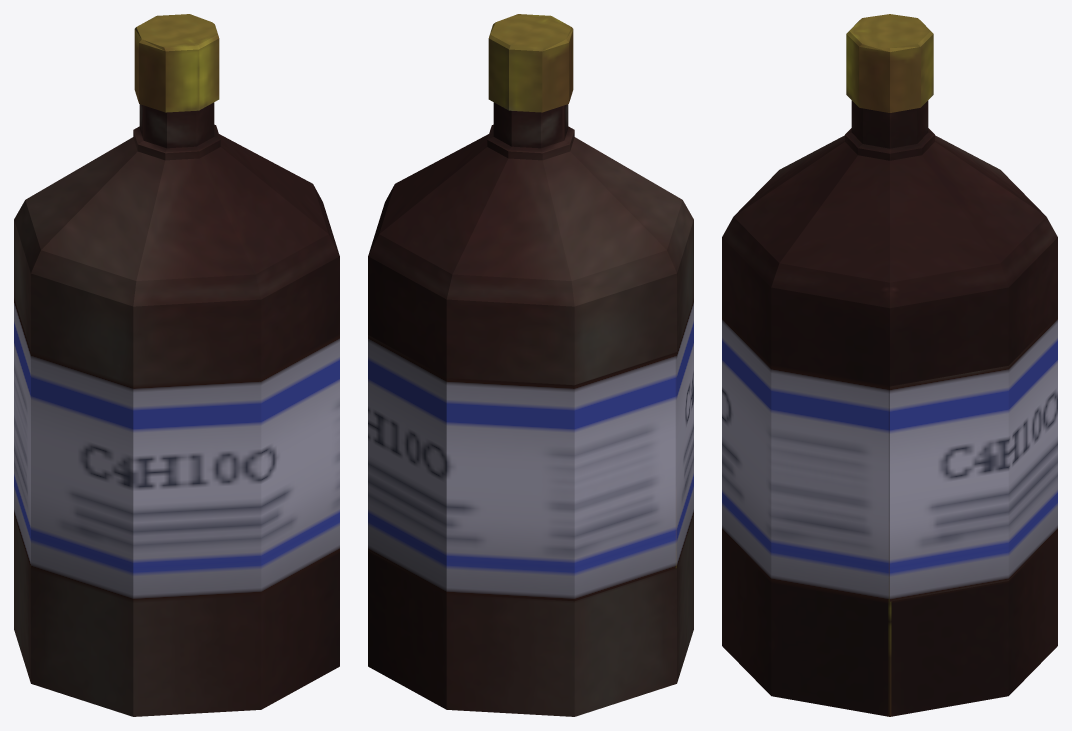
The model's file is BaoLuoGongZuoShi_01_youping_01.FBX.
3 views of the same model, side by side, from view 1: azimuth 30°, elevation 25°; view 2: azimuth 150°, elevation 25°; view 3: azimuth 270°, elevation 25° (orthographic).
Parts seen in each view (by area): view 1: BaoLuoGongZuoShi_01_youping_01; view 2: BaoLuoGongZuoShi_01_youping_01; view 3: BaoLuoGongZuoShi_01_youping_01.
Boxes of the visible parts, <box> form: BaoLuoGongZuoShi_01_youping_01: <box>14,14,339,716</box>; BaoLuoGongZuoShi_01_youping_01: <box>368,14,693,716</box>; BaoLuoGongZuoShi_01_youping_01: <box>722,14,1057,716</box>.
Bounding box in the file's own units: 81.63 × 165 × 81.63.
